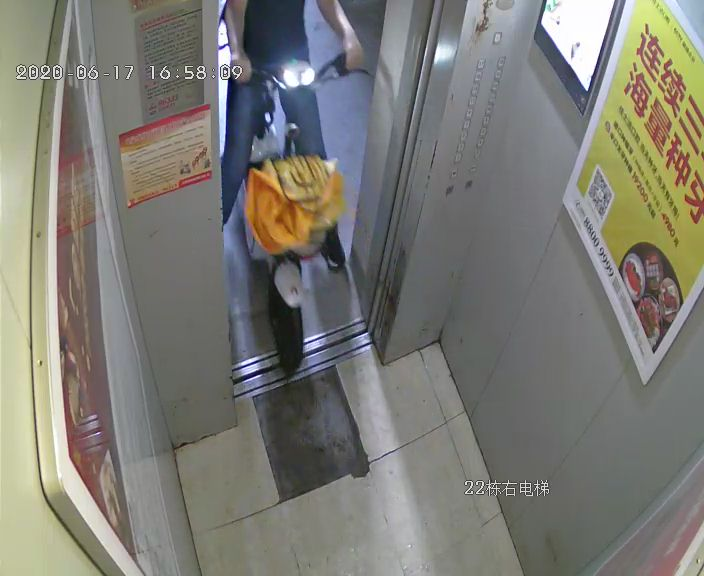Electric-bicycle: (220, 40, 373, 375)
